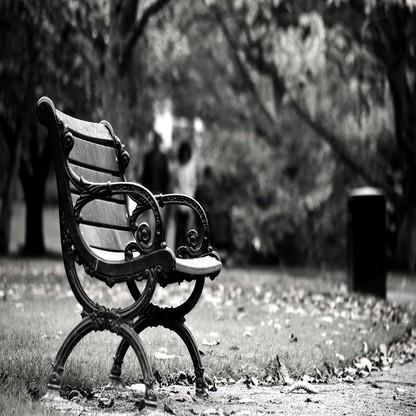obstacle: (20, 86, 233, 410)
